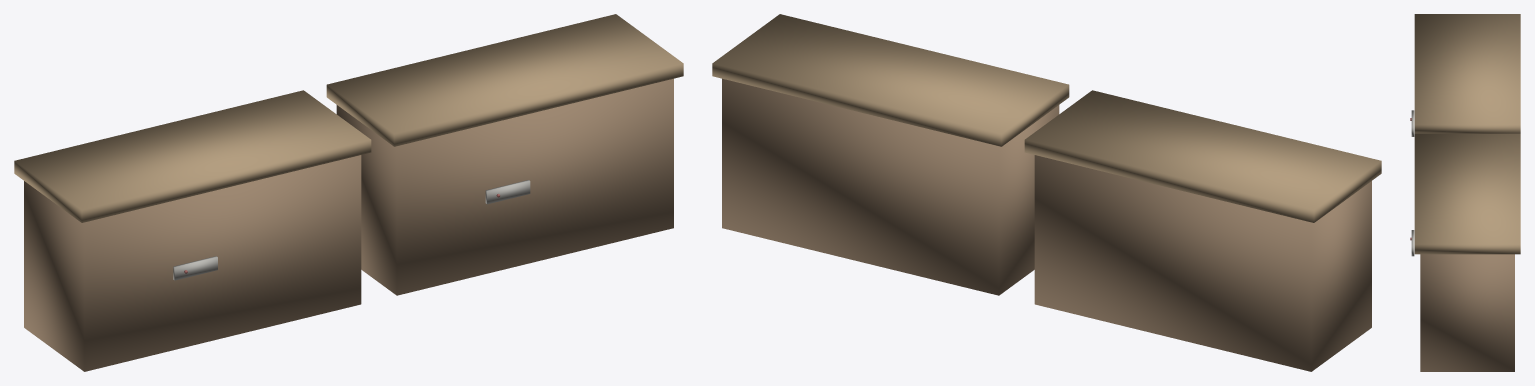
File: pawn_counter__cluster.glb
The picture shows the model from 3 angles, left to right: view 1: azimuth 30°, elevation 25°; view 2: azimuth 150°, elevation 25°; view 3: azimuth 270°, elevation 25°; orthographic projection. The views are drawn at different scales.
Parts seen in each view (by area): view 1: world; view 2: world; view 3: world.
Part boxes in pixels (left/top/right/bottom): world: left=14, top=14, right=683, bottom=371; world: left=712, top=14, right=1381, bottom=371; world: left=1410, top=14, right=1520, bottom=371.
Size of the model in its own units: 3.91 by 1.03 by 0.791.
